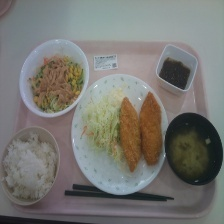rice: (0, 132, 58, 204)
